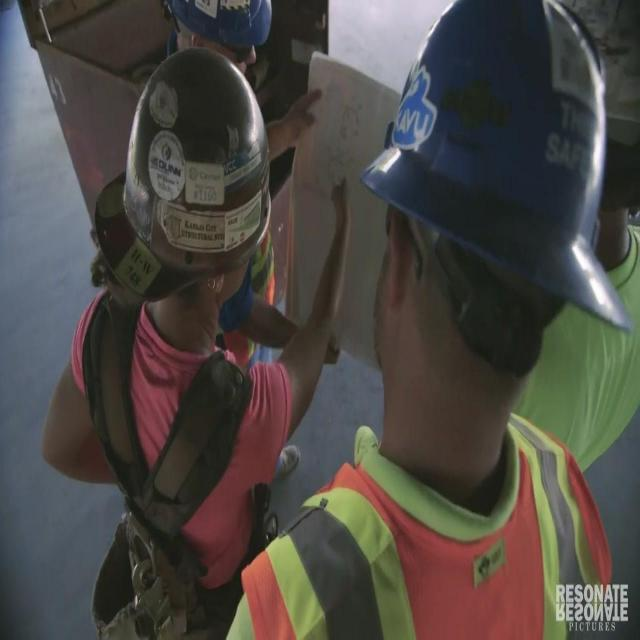vest: (238, 406, 614, 638), (212, 226, 274, 367)
